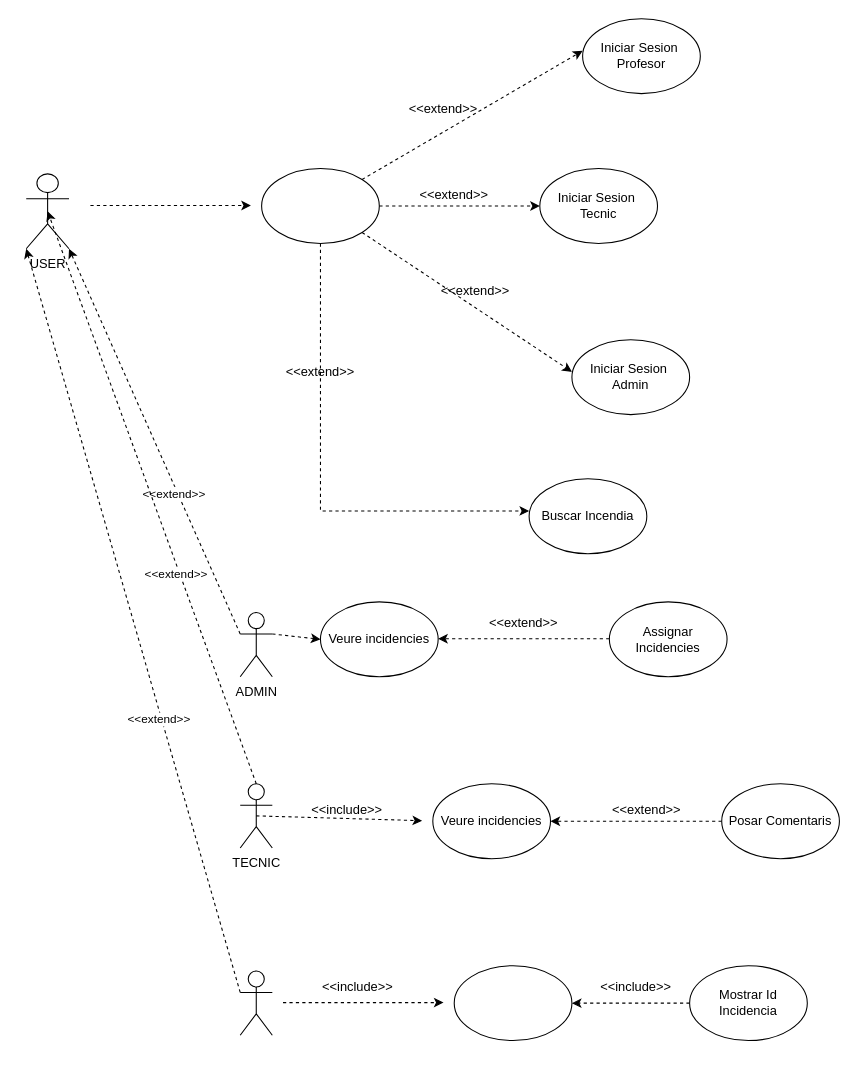
Some shapes in this 858 by 1076 pixel diagram are drawn without their labels. Each missing label, with the centre of its shape:
Crear Incidencia: pixel 512 1003
PROFESOR: pixel 255 1002
Sesion: pixel 320 205
